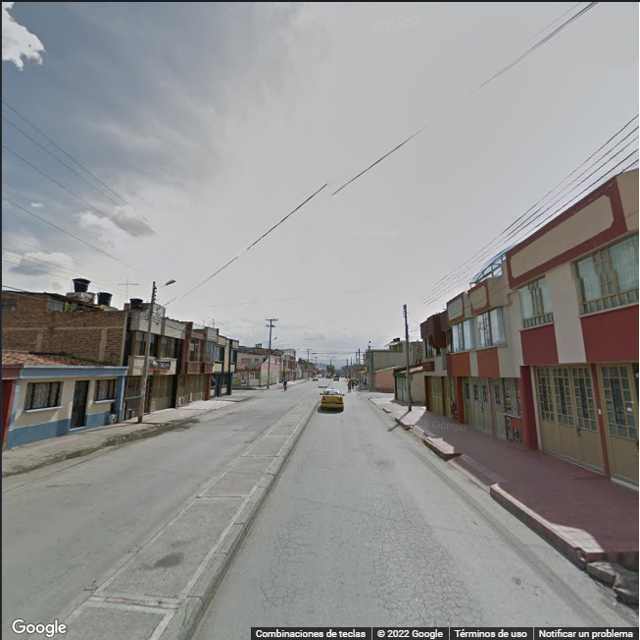D20: (360, 476, 482, 626), (256, 500, 320, 610)
